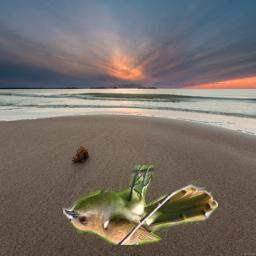Cuckoo: (63, 165, 218, 245)
